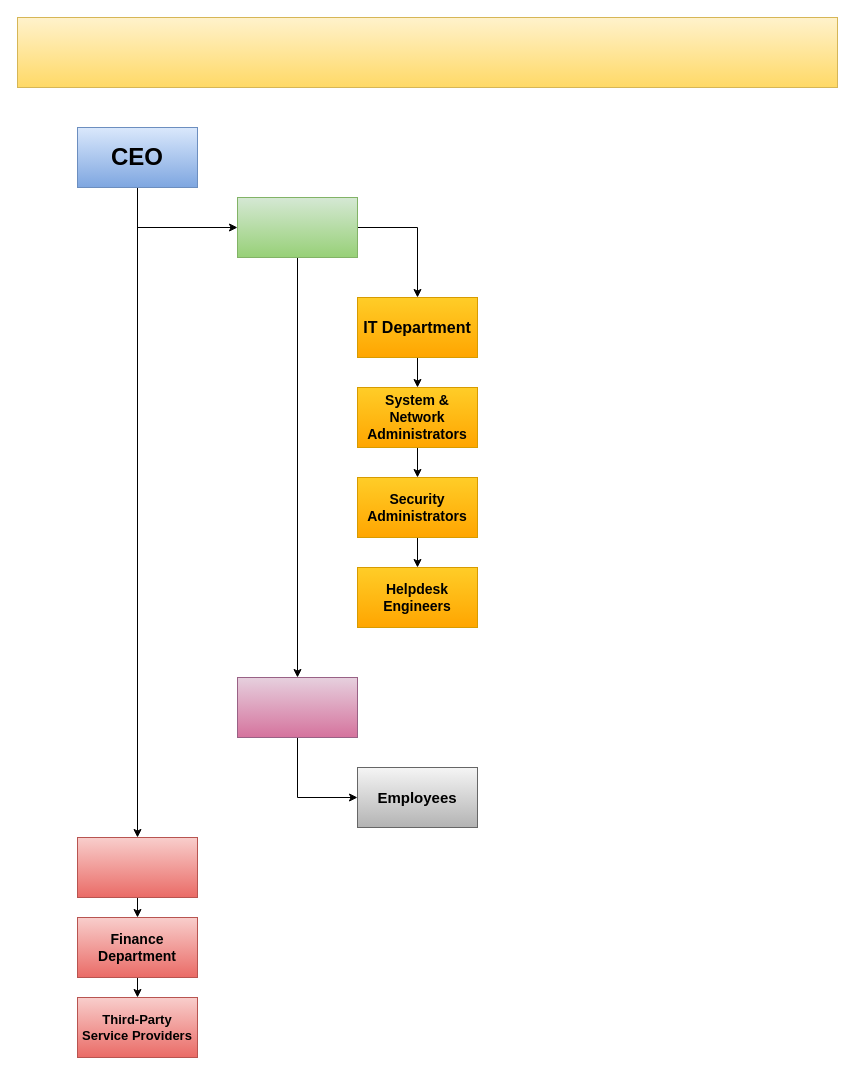
This 855x1075 diagram has some shape labels left out. Each missing label, with the centre of its shape:
Department Heads: [297,707]
Human Resources: [137,867]
Information Security Manager: [297,227]
MAYEKAR TECHNOLOGIES PVT. LTD: [427,52]
